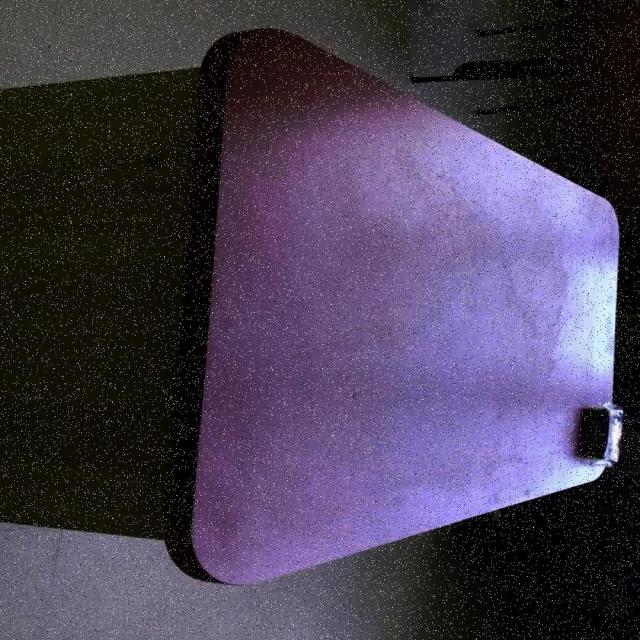Sponge: (164, 27, 623, 584)
